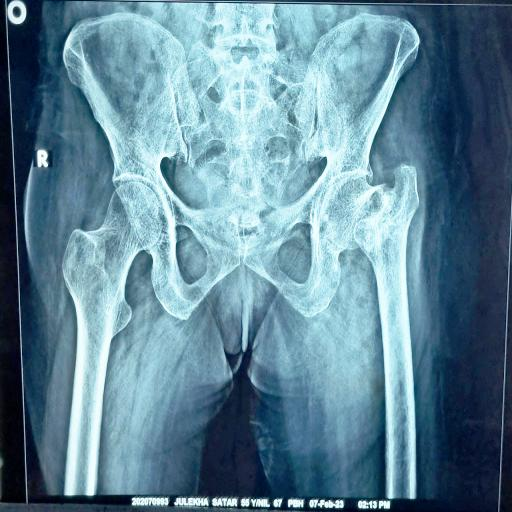neck: (354, 162, 420, 328), (321, 176, 384, 250)
normal: (62, 182, 162, 395)
